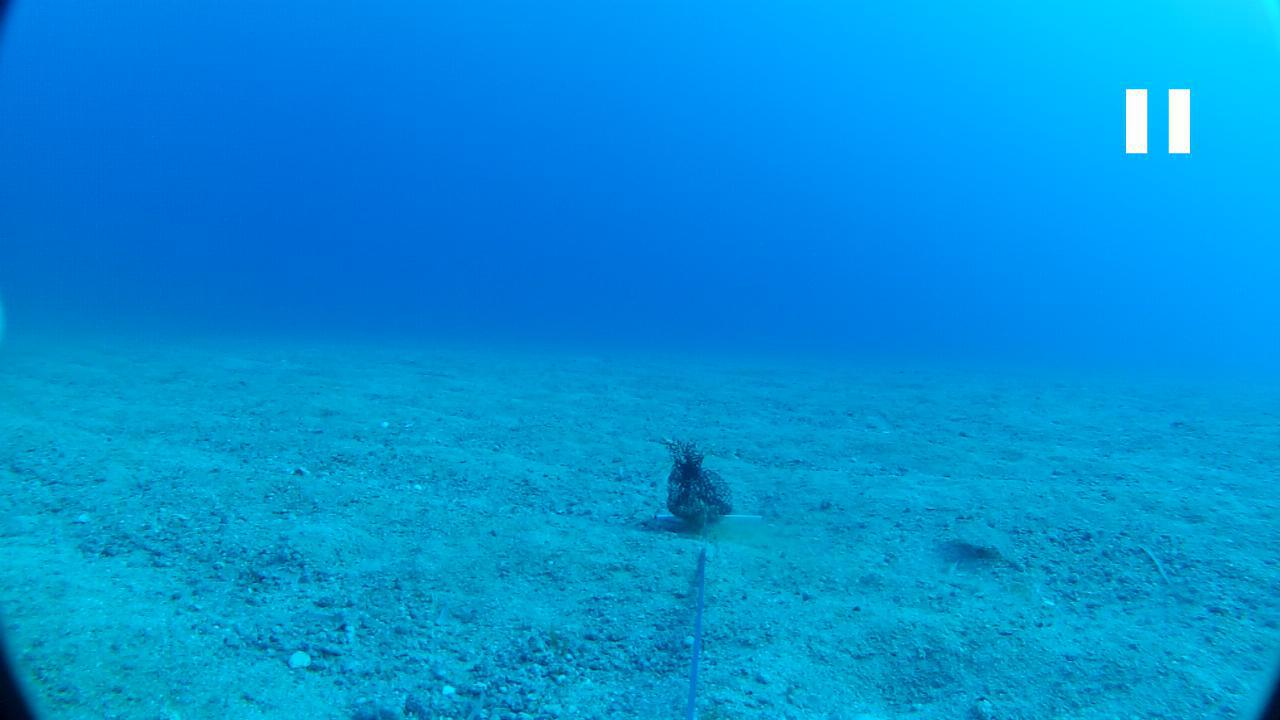bothus: (942, 513, 1021, 567)
